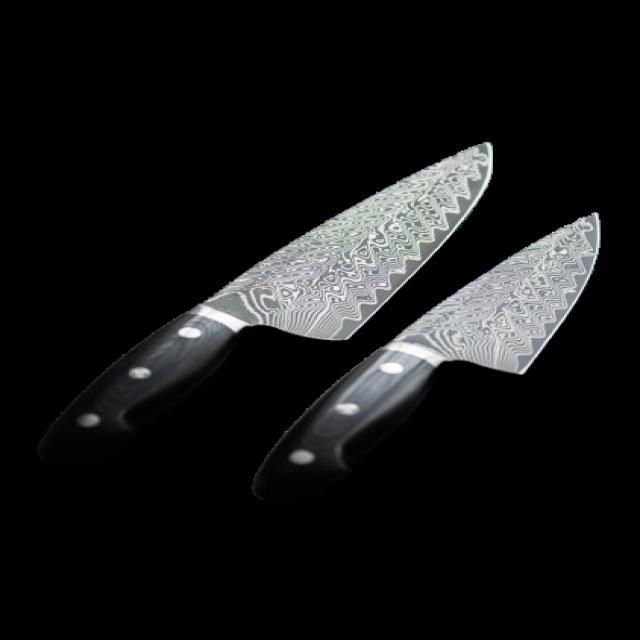knife: (26, 139, 496, 470), (247, 207, 600, 504)
